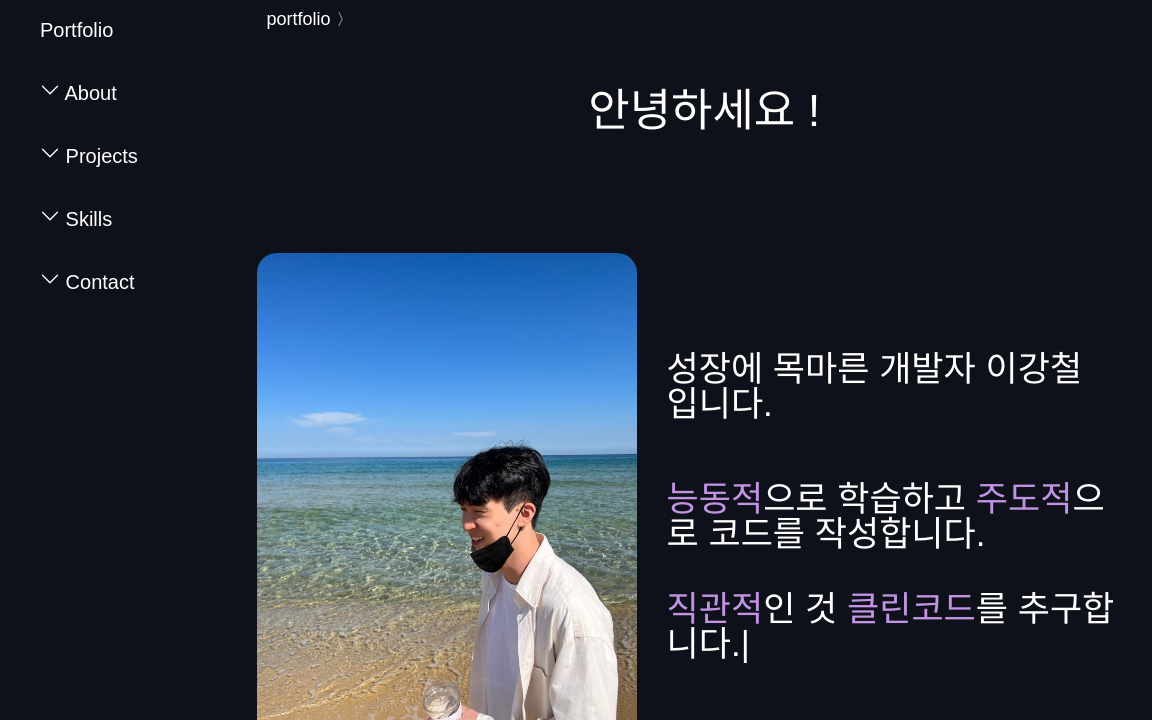
Test: Portfolio App › navigate to About page
The width and height of the screenshot is (1152, 720).
Step 1. Click the link "About" → (79, 93), box [40,82,117,104]
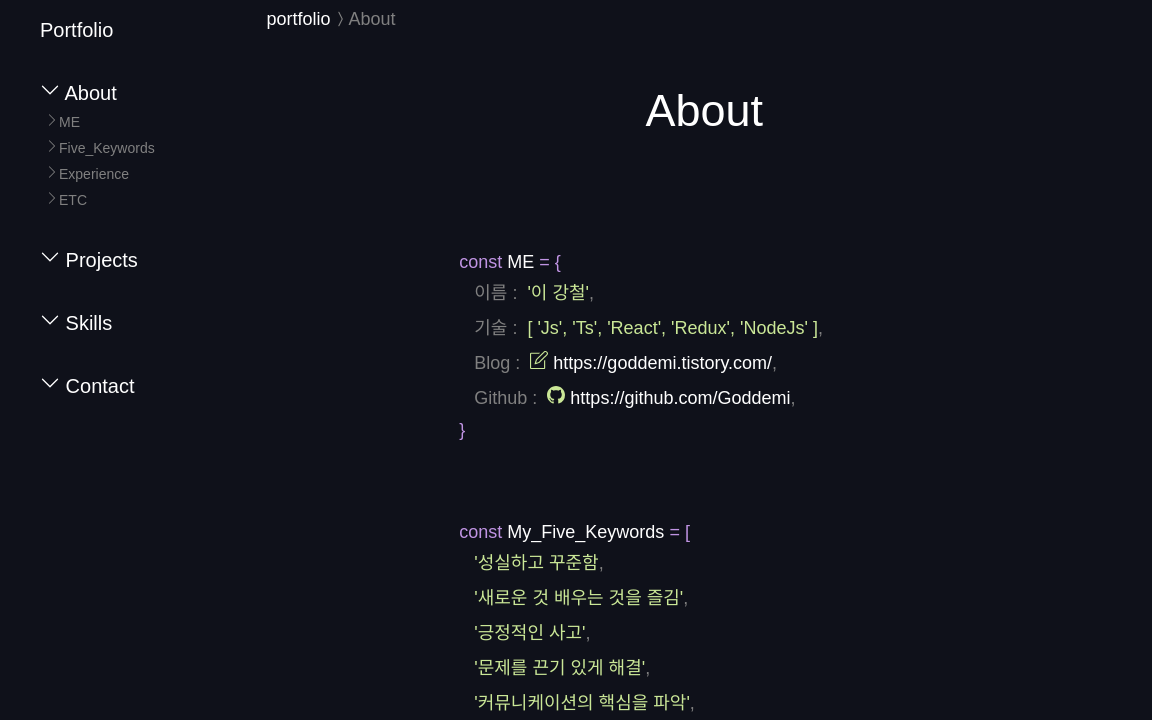
Expected: the text "이 강철" is shown, [527,283,589,303]
